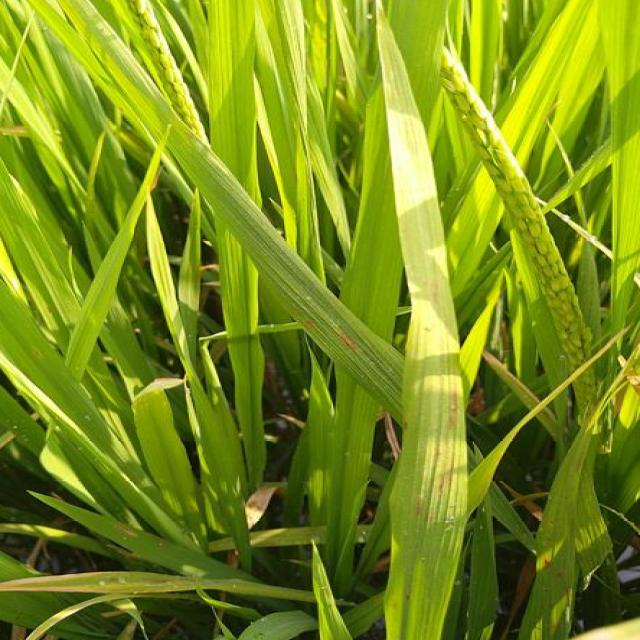Leaf Streak: (394, 376, 463, 640), (398, 216, 457, 359), (0, 573, 189, 598), (303, 320, 368, 355)
